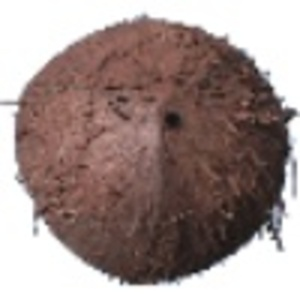coco: (13, 14, 298, 288)
